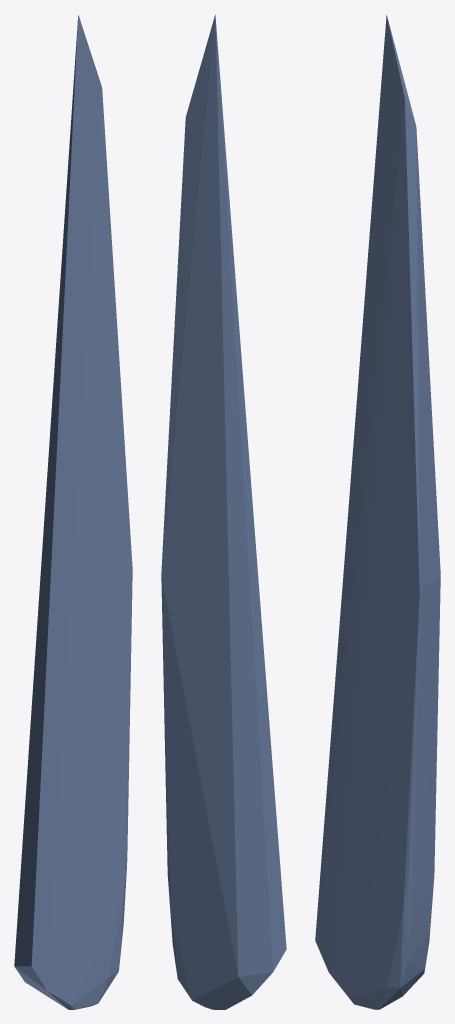
Rendered from kitchenware_knife_g01.glb.
The picture shows the model from 3 angles, left to right: view 1: azimuth 30°, elevation 25°; view 2: azimuth 150°, elevation 25°; view 3: azimuth 330°, elevation 25°; orthographic projection.
Visible parts, largest first — view 1: geometry_0; view 2: geometry_0; view 3: geometry_0.
Part boxes in pixels (left/top/right/bottom): geometry_0: left=14, top=15, right=132, bottom=1009; geometry_0: left=161, top=15, right=286, bottom=1009; geometry_0: left=315, top=15, right=440, bottom=1009.
Size of the model in its own units: 0.0533 by 0.4792 by 0.0254.
